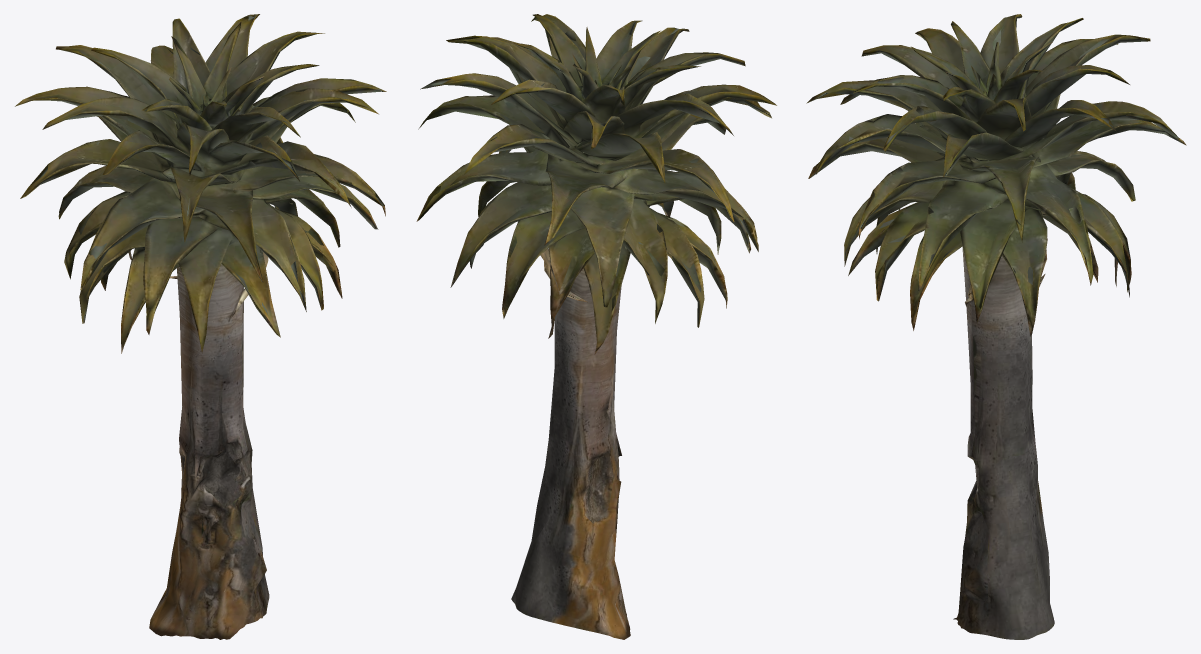
Rendered from quiver_tree_02.gltf.
3 views of the same model, side by side, from view 1: azimuth 30°, elevation 25°; view 2: azimuth 150°, elevation 25°; view 3: azimuth 270°, elevation 25° (orthographic).
Visible parts, largest first — view 1: quiver_tree_02; view 2: quiver_tree_02; view 3: quiver_tree_02.
Part boxes in pixels (left/top/right/bottom): quiver_tree_02: left=15, top=14, right=386, bottom=639; quiver_tree_02: left=416, top=14, right=776, bottom=639; quiver_tree_02: left=806, top=14, right=1186, bottom=639.
Bounding box in the file's own units: 0.8651 × 1.47 × 0.8701.
1 material, 1 textured.
